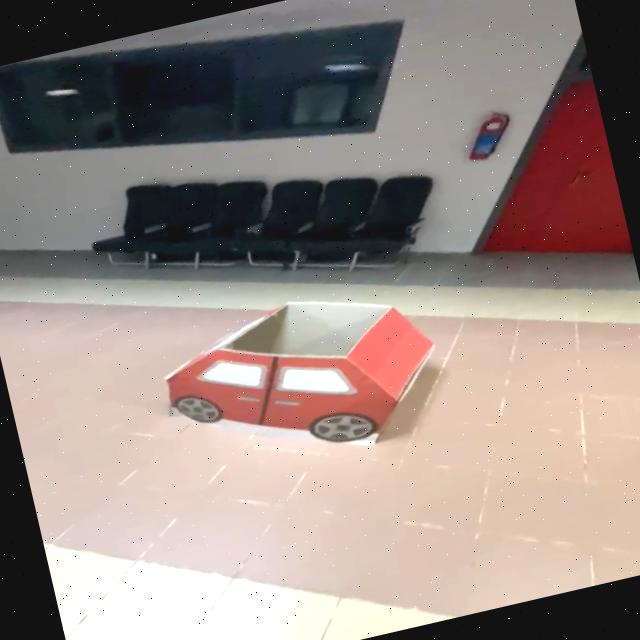red_car: (107, 254, 482, 506)
